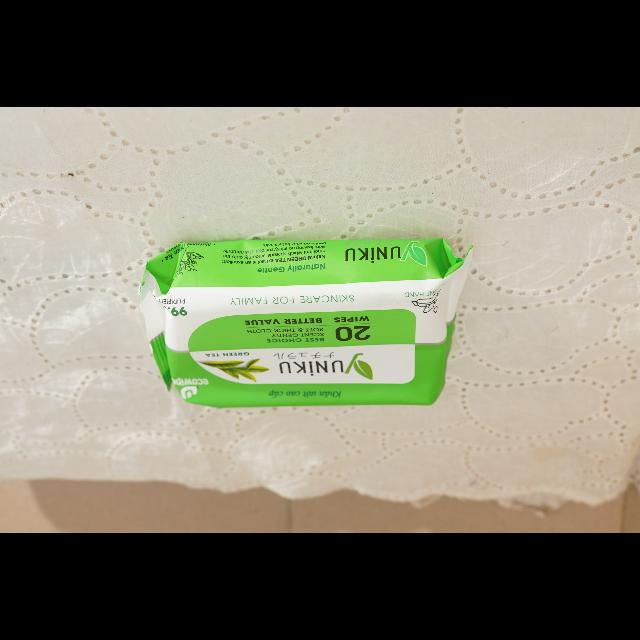khan_giay: (140, 238, 473, 407)
